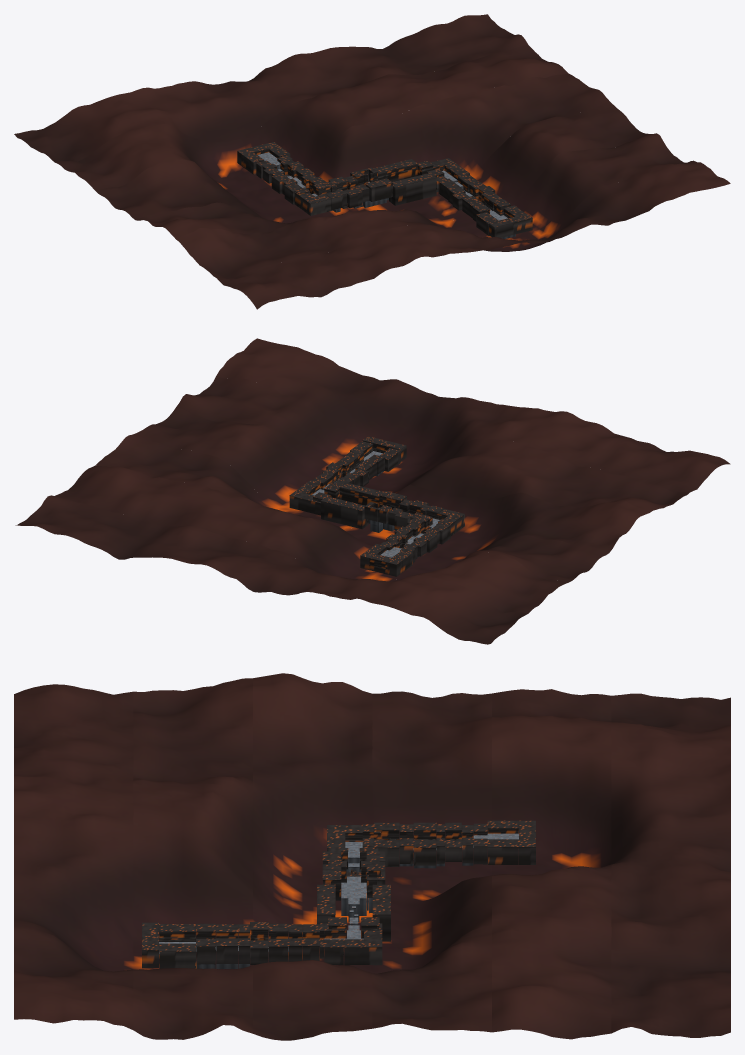
The model's file is magma_forge_terrain.glb.
3 renders of one model, top to bottom at view 1: azimuth 30°, elevation 25°; view 2: azimuth 150°, elevation 25°; view 3: azimuth 270°, elevation 25°, orthographic. The views are drawn at different scales.
Parts seen in each view (by area): view 1: backdrop_5, backdrop_3, backdrop_4, backdrop_1, backdrop_0, backdrop_2, terrain_E, terrain_H, terrain_A, terrain_G, terrain_I, terrain_F (+4 smaller); view 2: backdrop_0, backdrop_1, backdrop_5, backdrop_4, backdrop_2, backdrop_3, terrain_E, terrain_J, terrain_H, terrain_I, terrain_A, terrain_G (+3 smaller); view 3: backdrop_5, backdrop_0, backdrop_4, backdrop_1, backdrop_3, backdrop_2, terrain_E, terrain_I, terrain_H, terrain_A, terrain_J, terrain_C (+4 smaller).
Boxes of the visible parts, x1,y1,x2,y2 form: backdrop_5: (14,14,527,162); backdrop_3: (95,73,608,222); backdrop_4: (55,45,568,193); backdrop_1: (176,133,686,278); backdrop_0: (217,160,730,309); backdrop_2: (136,101,648,239); terrain_E: (370,158,461,205); terrain_H: (282,174,331,215); terrain_A: (476,205,532,238); terrain_G: (313,176,369,212); terrain_I: (256,155,314,193); terrain_F: (350,167,392,207); backdrop_0: (217,338,730,492); backdrop_1: (176,375,689,512); backdrop_5: (15,495,527,644); backdrop_4: (55,465,568,613); backdrop_2: (136,407,649,556); backdrop_3: (95,433,608,582); terrain_E: (289,482,383,529); terrain_J: (360,544,412,576); terrain_H: (405,509,464,544); terrain_I: (380,526,437,562); terrain_A: (350,436,406,476); terrain_G: (388,499,443,531); backdrop_5: (611,693,730,1037); backdrop_0: (14,684,133,1030); backdrop_4: (492,689,611,1039); backdrop_1: (133,678,252,1039); backdrop_3: (372,691,491,1032); backdrop_2: (253,673,372,1040); terrain_E: (317,884,390,965); terrain_I: (413,822,487,868); terrain_H: (327,822,413,866); terrain_A: (142,922,195,968); terrain_J: (487,820,535,864); terrain_C: (238,922,288,968).
Bounding box in the file's own units: 567 × 64.56 × 504.
